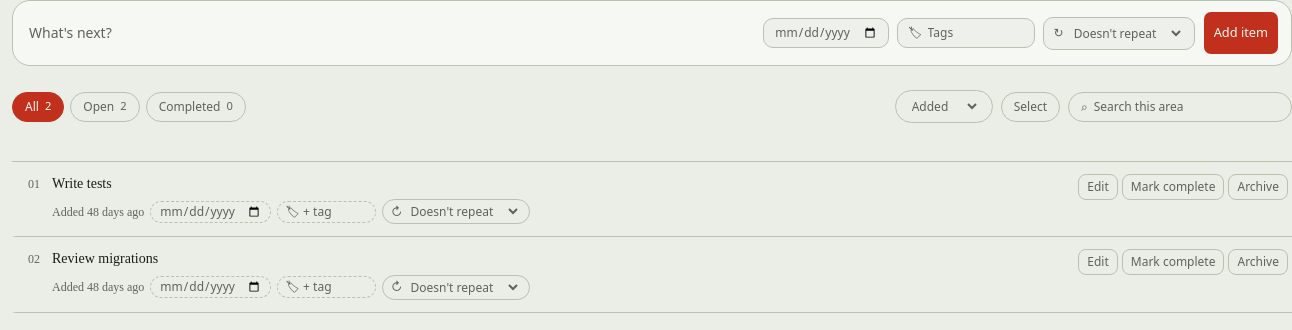
Scenario: TaskWorkspace › searches task text without changing the live counts
The image size is (1292, 330).
Type "migration" into the search field.
click(1186, 106); type("migration")  # box [1094,98,1279,114]
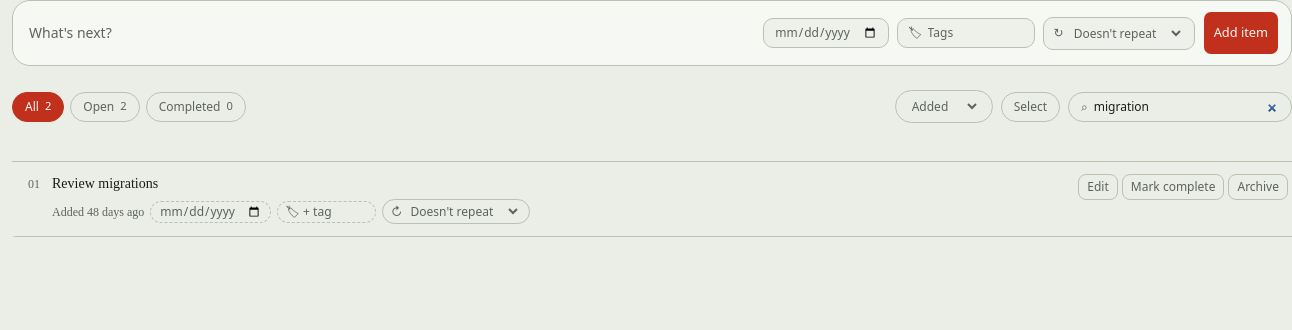
Expected: the link "Review migrations" is shown, [52,176,158,191]
Expected: the link "Write tests" is gone
